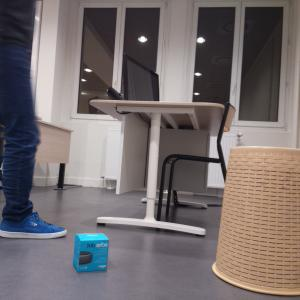medium: (213, 144, 300, 293)
small: (70, 231, 109, 273)
